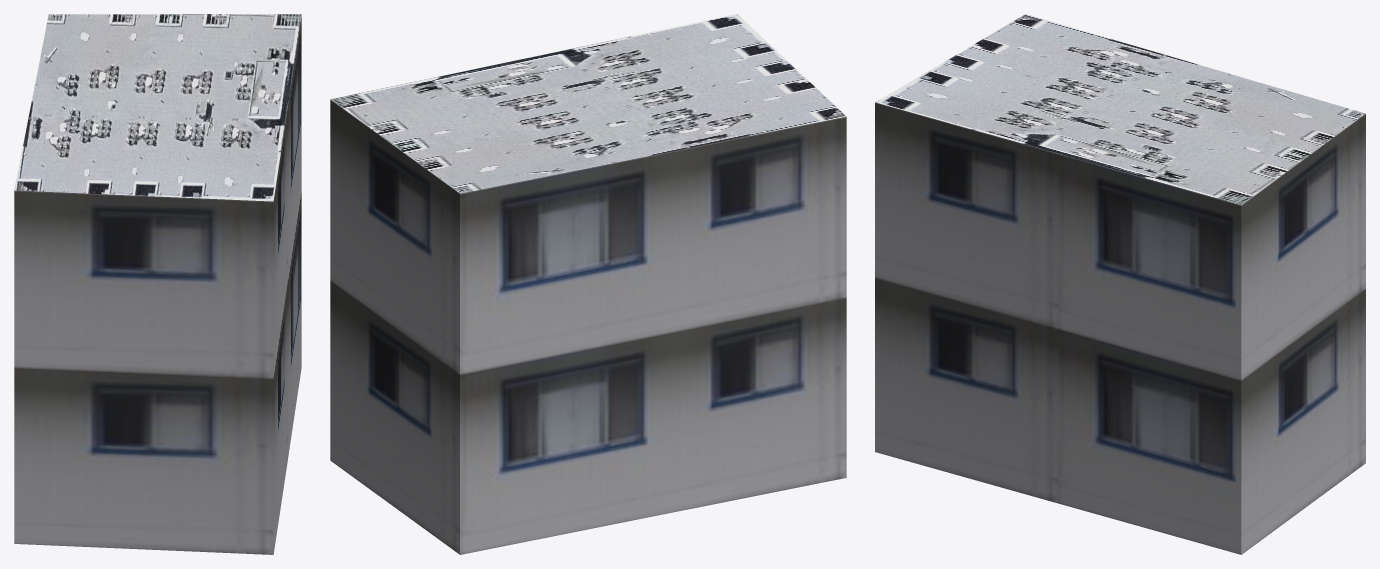
The model's file is ResTex__1946.fbx.
3 views of the same model, side by side, from view 1: azimuth 30°, elevation 25°; view 2: azimuth 150°, elevation 25°; view 3: azimuth 270°, elevation 25° (orthographic). The views are drawn at different scales.
Visible parts, largest first — view 1: CityEngineMaterial_9_m, CityEngineMaterial_2_m; view 2: CityEngineMaterial_9_m, CityEngineMaterial_2_m; view 3: CityEngineMaterial_9_m, CityEngineMaterial_2_m.
Part boxes in pixels (x1,y1,x2,y2): CityEngineMaterial_9_m: [14, 15, 301, 554]; CityEngineMaterial_2_m: [14, 14, 301, 201]; CityEngineMaterial_9_m: [330, 99, 846, 554]; CityEngineMaterial_2_m: [330, 14, 846, 193]; CityEngineMaterial_9_m: [875, 102, 1365, 554]; CityEngineMaterial_2_m: [875, 14, 1365, 205].
Bounding box in the file's own units: 7.04 × 6 × 7.63.
2 materials, 2 textured.
